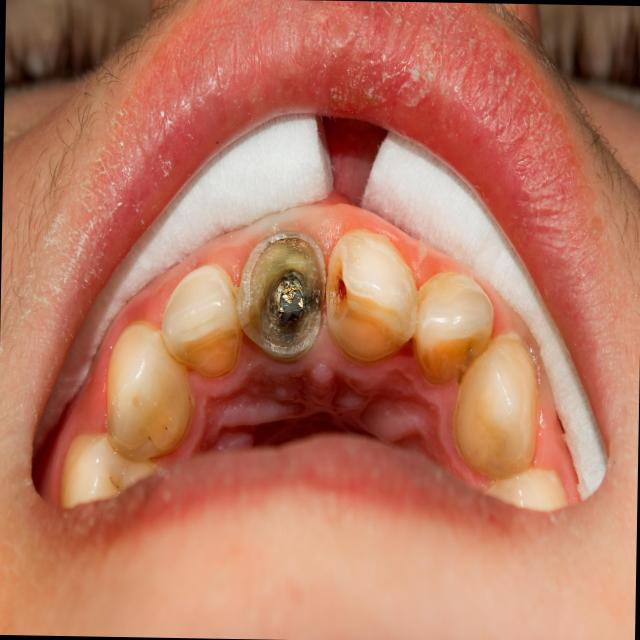Caries: (148, 436, 153, 441), (165, 426, 167, 429)
Cavity: (249, 237, 324, 347), (326, 257, 348, 322)
Tooth: (325, 228, 419, 365), (453, 334, 539, 480), (106, 320, 194, 460), (237, 231, 327, 362), (161, 264, 243, 378), (414, 271, 494, 386), (60, 433, 162, 508), (485, 466, 569, 512)
